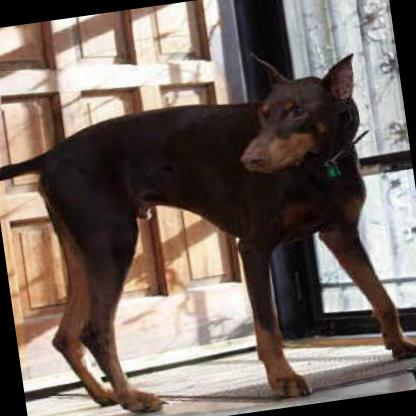Doberman: (0, 31, 416, 416)
